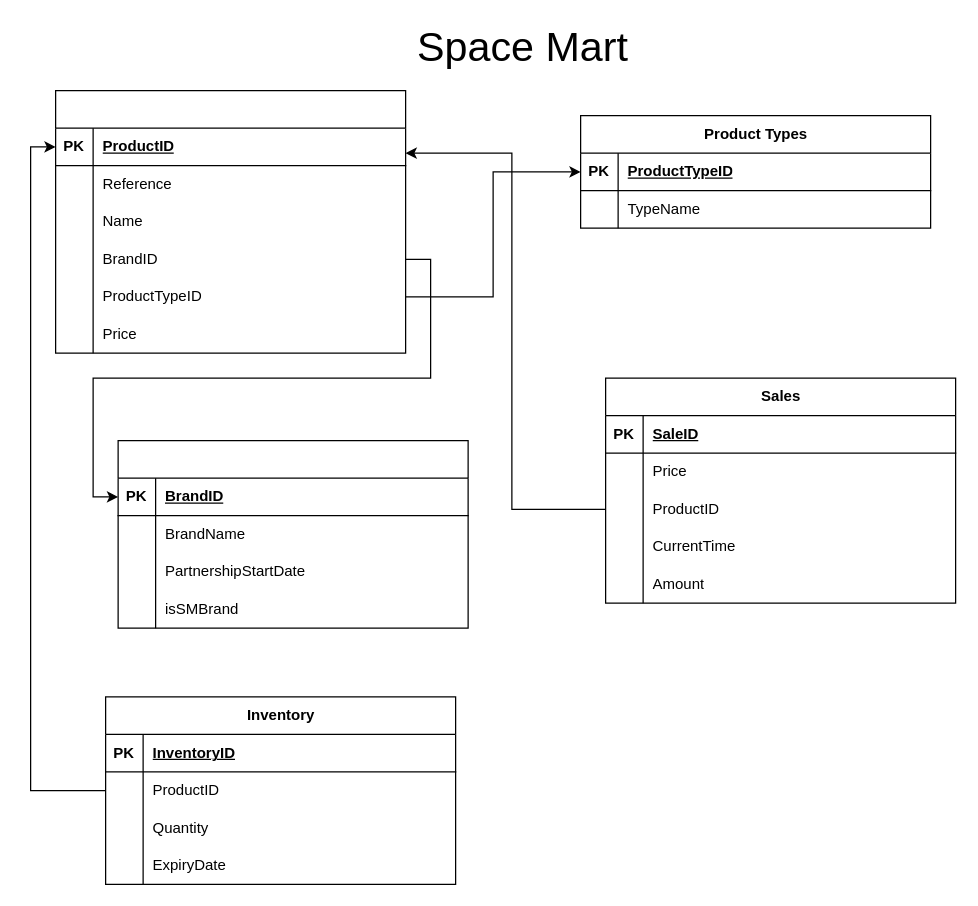
This 978x906 diagram has some shape labels left out. Here are the shapes that lost their labels. From the top down, the box of each, then its label:
(54, 89, 406, 353): Products
(117, 439, 468, 628): Brands
